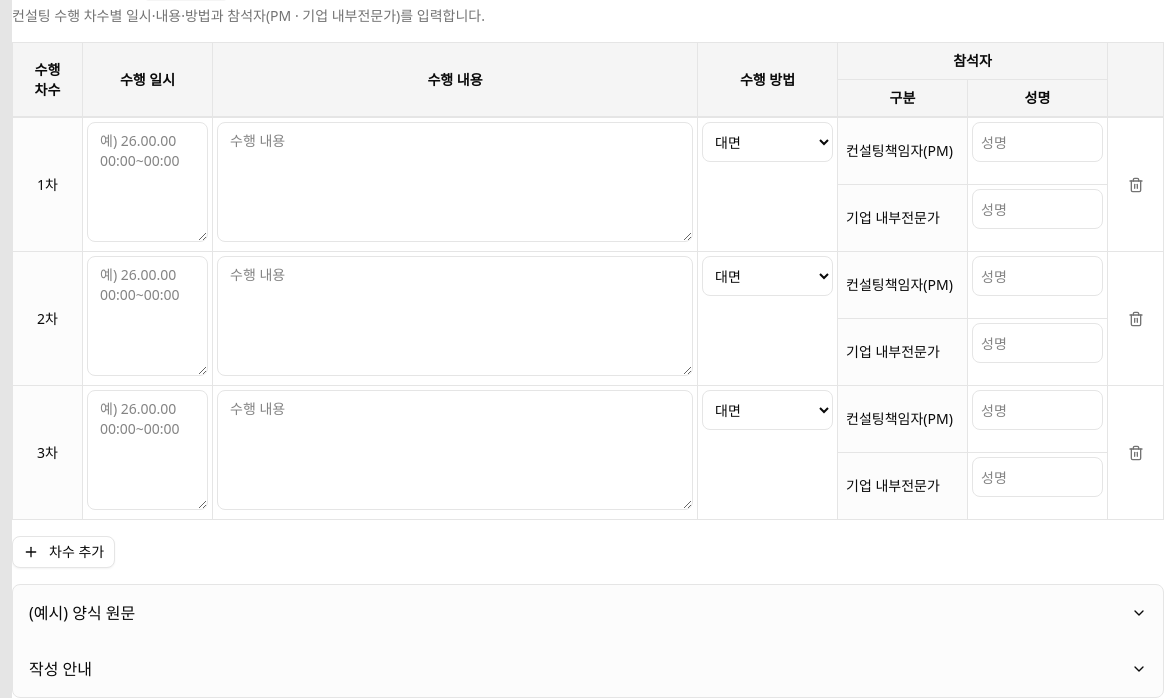
Test: StepPerformanceActivities › 작성 안내의 차수 상한 문구가 15차로 표기된다
What coordinates should you click on to do the following:
click the button "작성 안내"
I would click on:
 (61, 669)
Its box is [29, 641, 1147, 697].
(page scrolled)
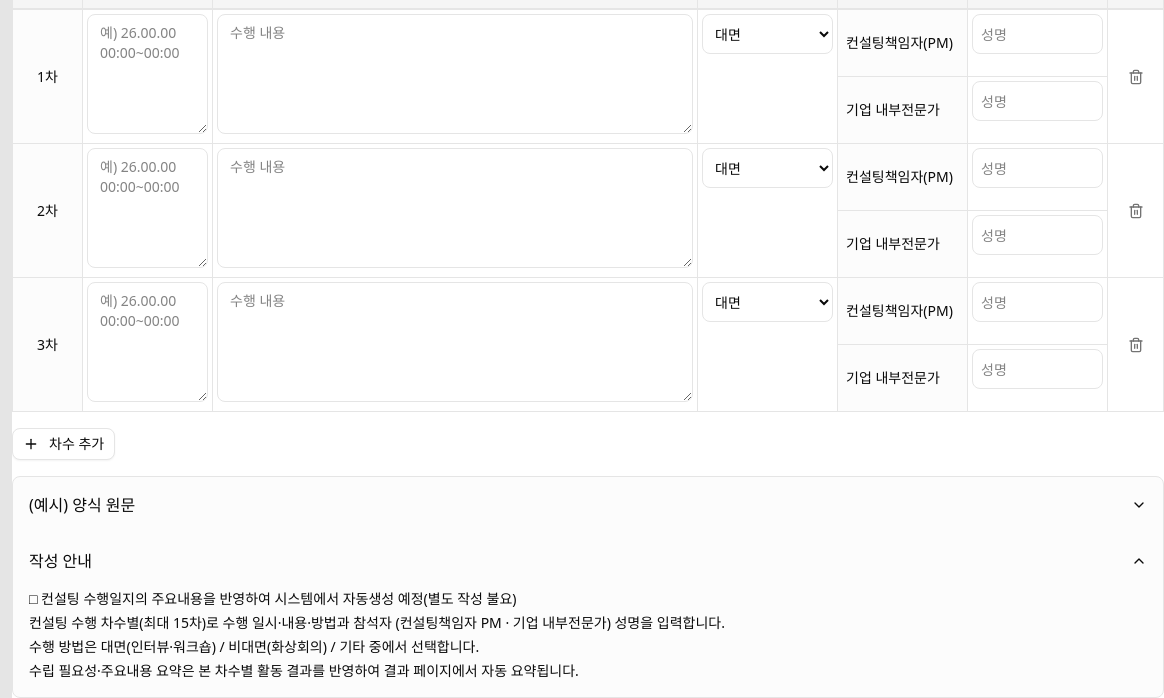
Now the list item "컨설팅 수행 차수별(최대 15차)로" is shown, box [29, 613, 725, 632]
